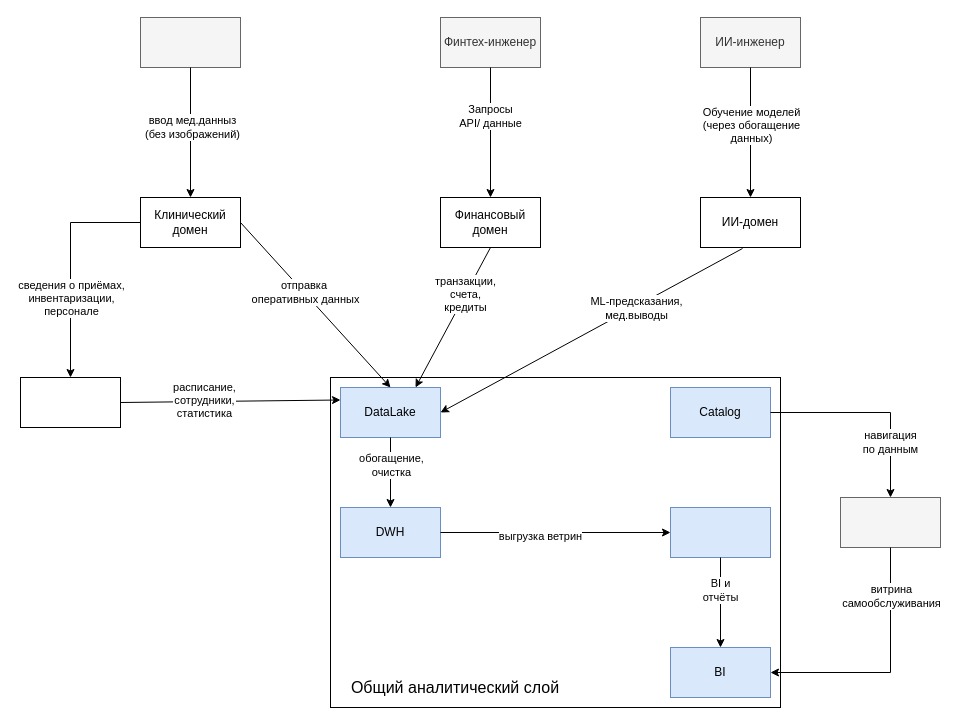
Some shapes in this 958 by 725 pixel diagram are drawn without their labels. The centre of each missing label's shape, as x and y in pixels:
DataMarts: the point at 720,532
Бизнес-пользователь: the point at 890,522
Оператор клиники: the point at 190,42
Операционный домен: the point at 70,402
